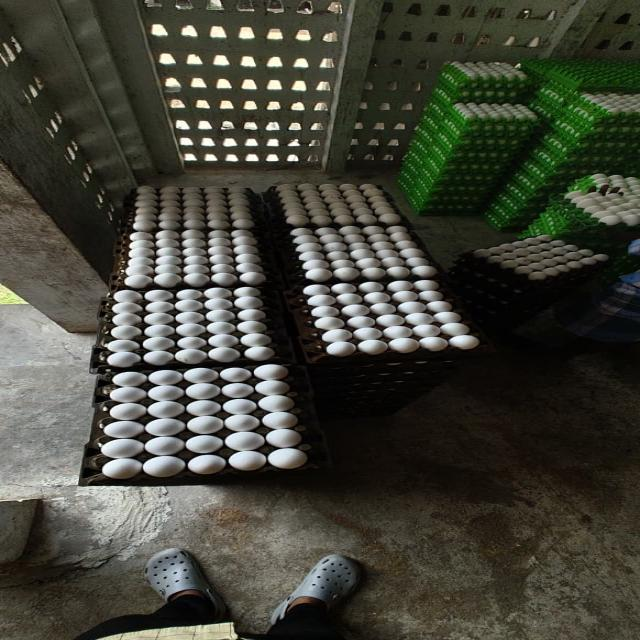egg_tray: (80, 364, 327, 485), (91, 286, 290, 372), (287, 280, 482, 362), (112, 186, 268, 288), (449, 235, 606, 328), (309, 354, 460, 420), (111, 230, 277, 290), (283, 225, 437, 284), (310, 358, 459, 414), (459, 235, 607, 285), (452, 270, 574, 326), (452, 270, 574, 323), (128, 186, 262, 232), (315, 374, 448, 420), (267, 184, 406, 227), (309, 358, 459, 397), (316, 377, 446, 420), (315, 377, 445, 418), (456, 284, 556, 332), (445, 102, 537, 146), (564, 174, 639, 226), (440, 62, 530, 100), (581, 92, 639, 139), (437, 351, 445, 355), (574, 110, 578, 114), (473, 350, 476, 353), (578, 282, 580, 285), (440, 91, 441, 93), (494, 323, 495, 323)
